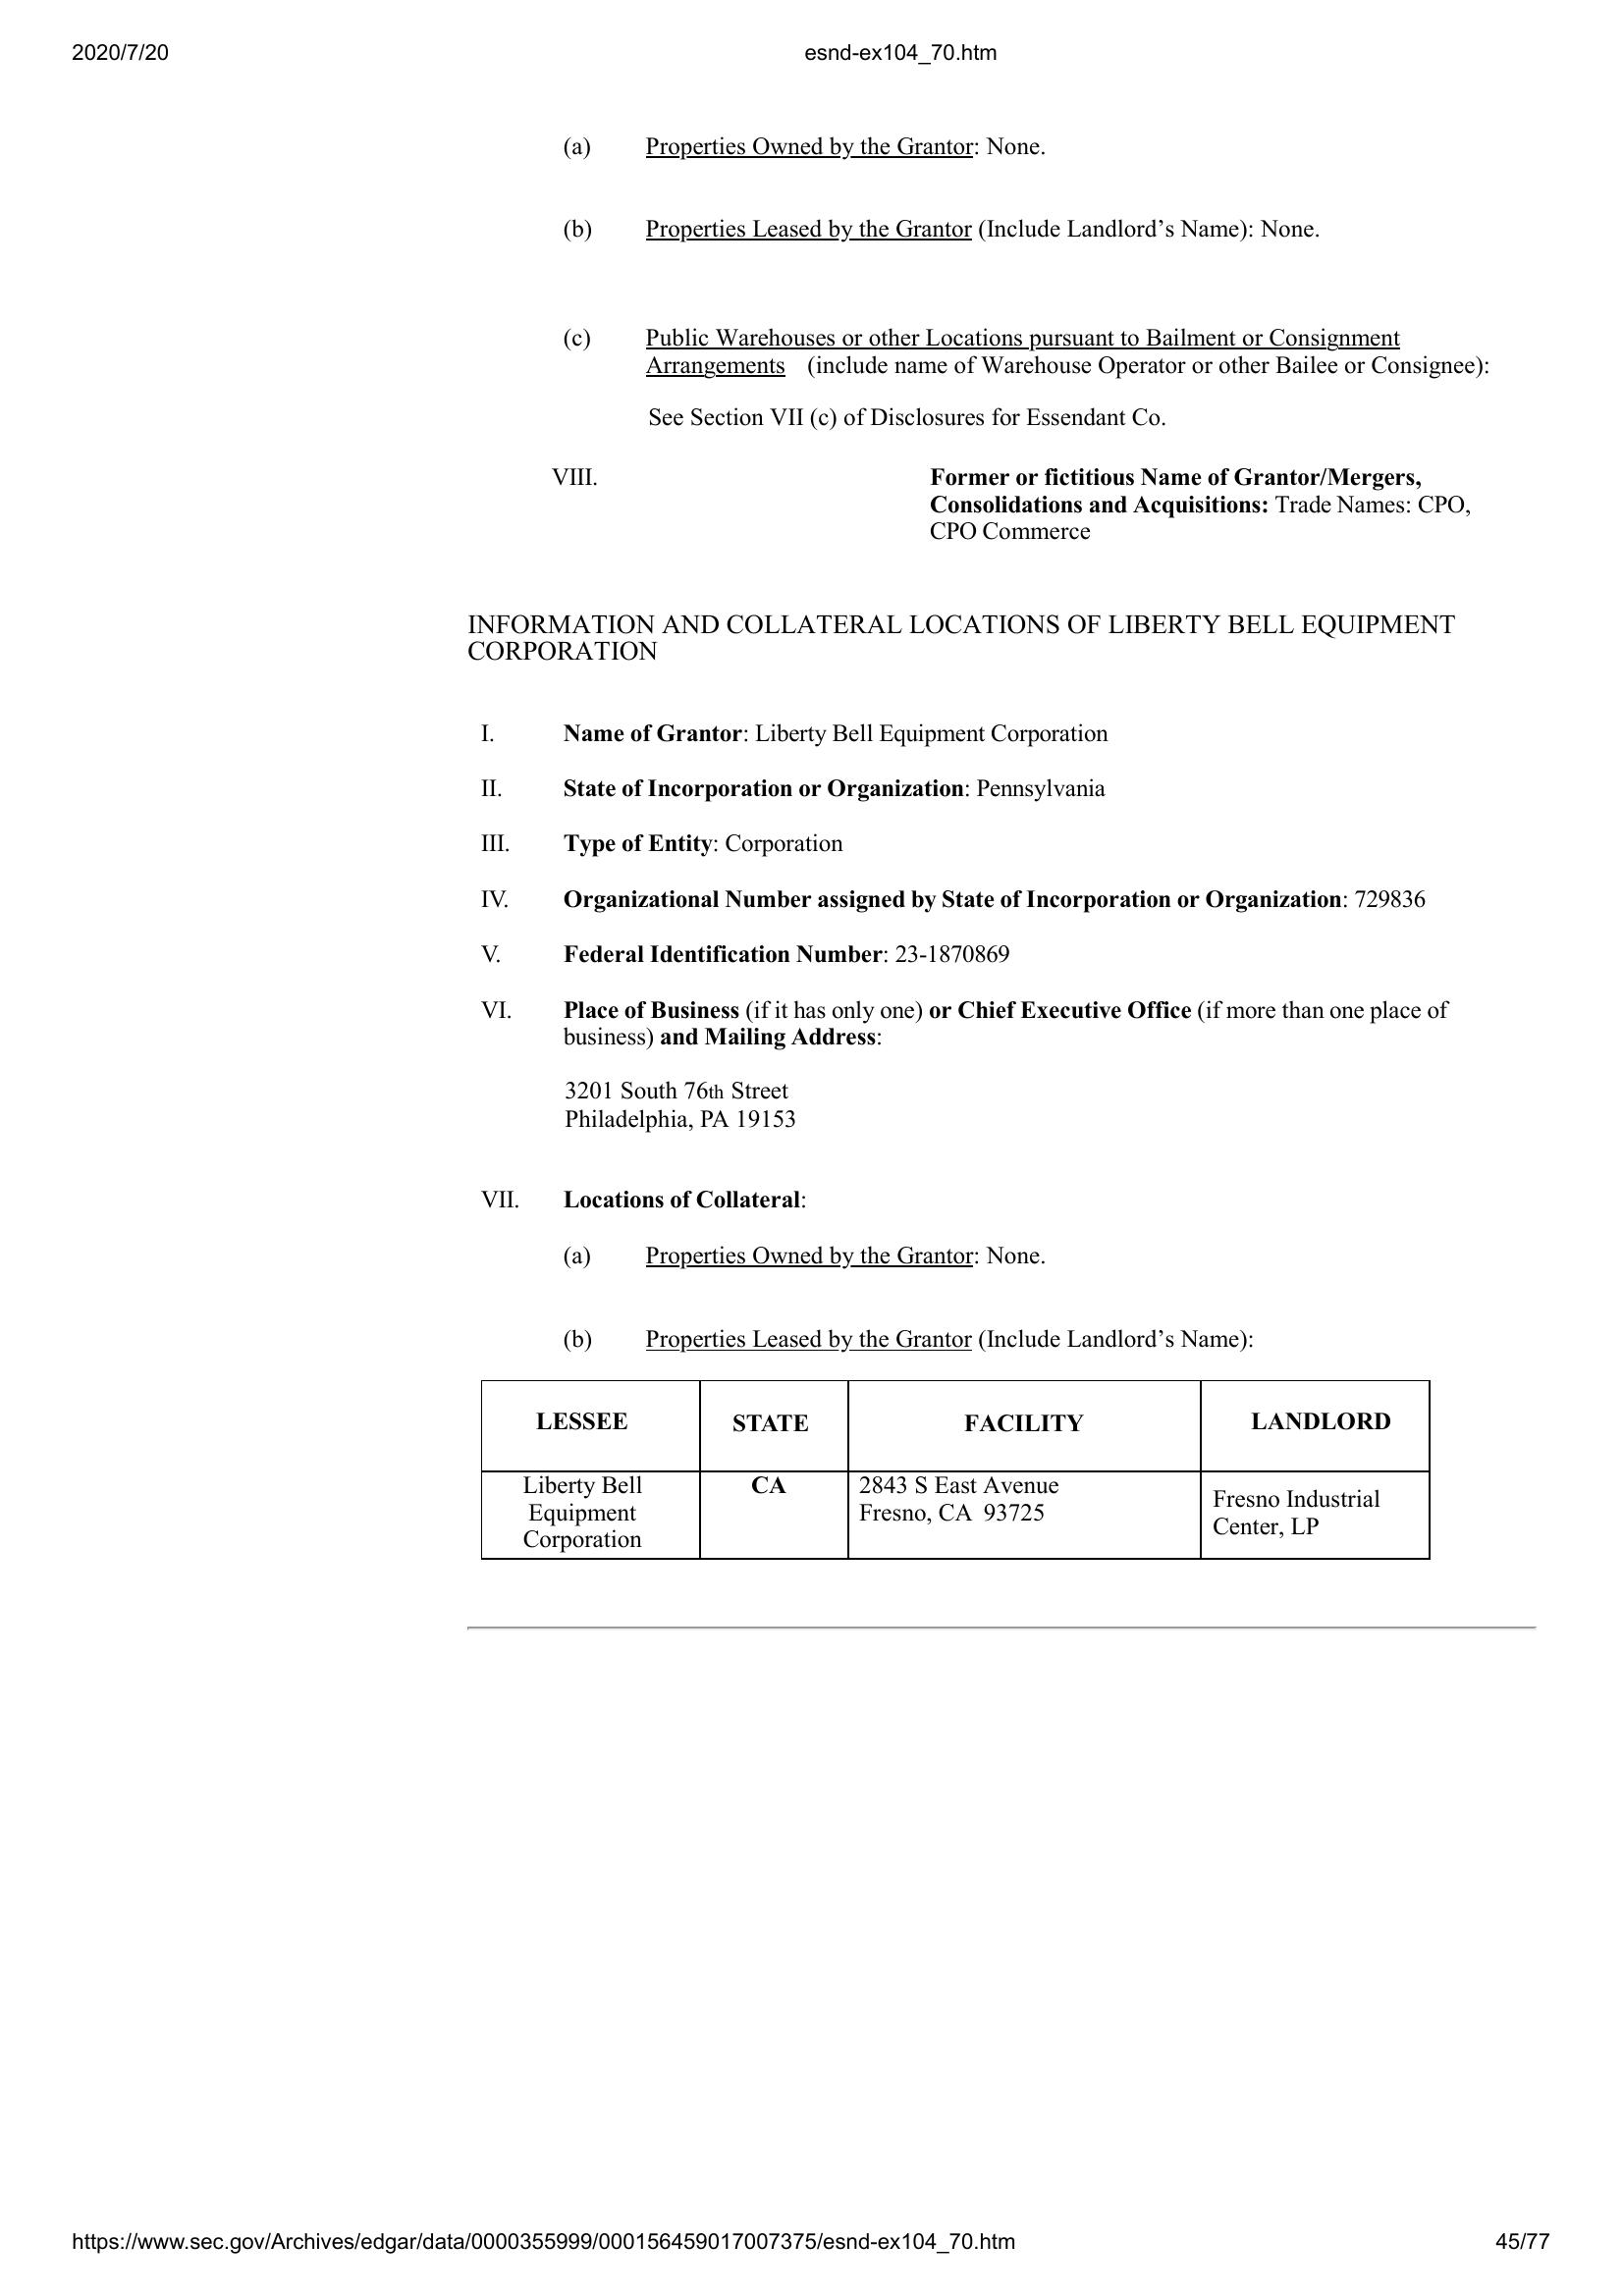table: (476, 1374, 1442, 1562)
